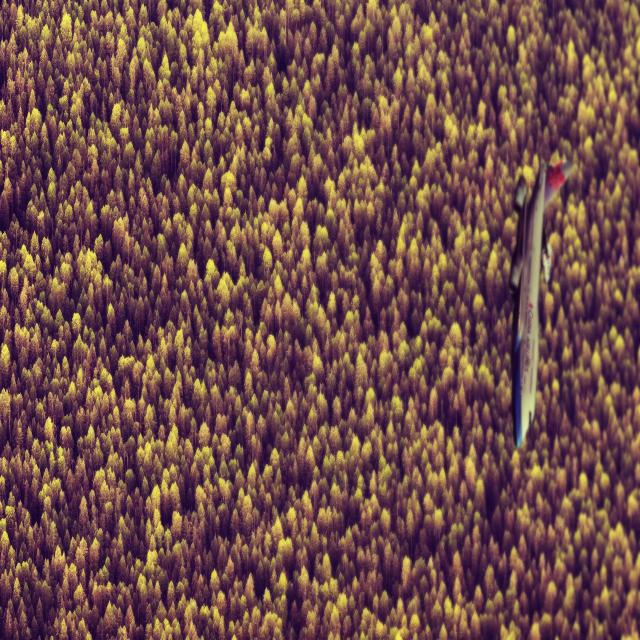airplane: (507, 155, 574, 449)
